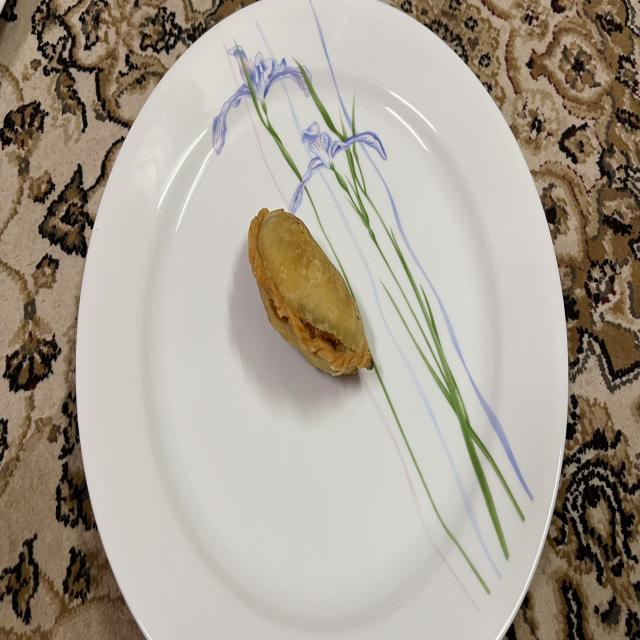karipap: (249, 209, 374, 376)
